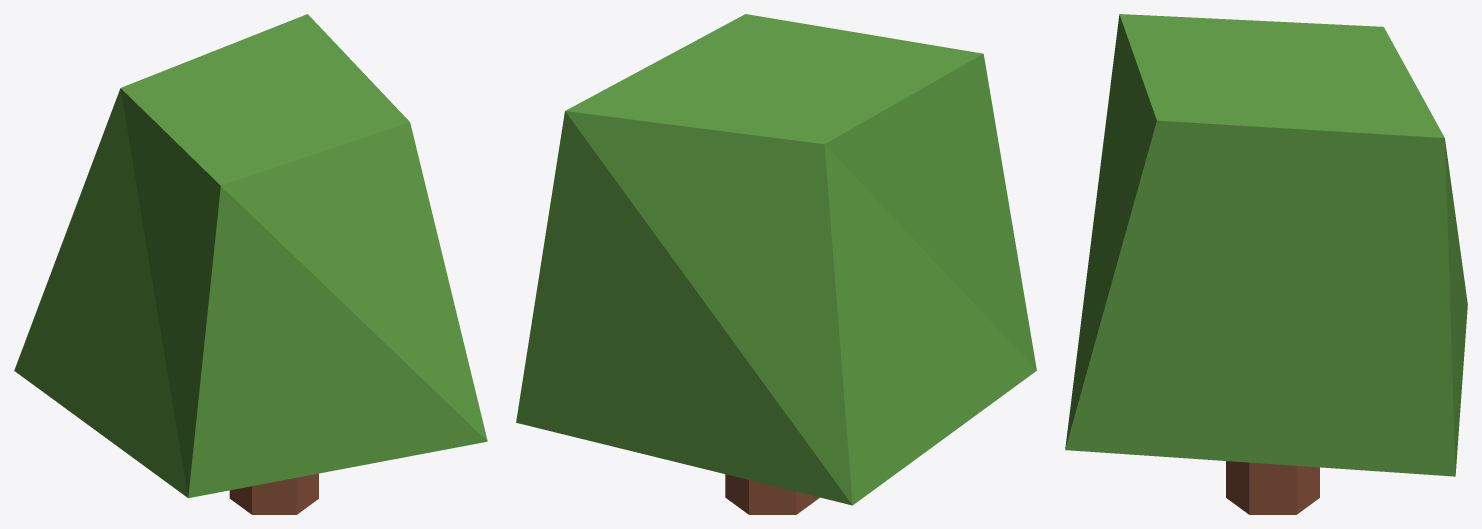
Rendered from Bush_11_summer.fbx.
The picture shows the model from 3 angles, left to right: view 1: azimuth 30°, elevation 25°; view 2: azimuth 150°, elevation 25°; view 3: azimuth 270°, elevation 25°; orthographic projection. The views are drawn at different scales.
Parts seen in each view (by area): view 1: Bush_11_summer; view 2: Bush_11_summer; view 3: Bush_11_summer.
Part boxes in pixels (box(x1,y1,x2,y2)): Bush_11_summer: box(14, 14, 487, 514); Bush_11_summer: box(516, 14, 1036, 514); Bush_11_summer: box(1065, 14, 1467, 514).
Bounding box in the file's own units: 50.88 × 59.59 × 51.95.
